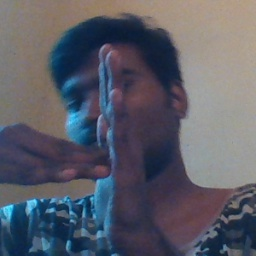Z: (13, 42, 151, 239)
